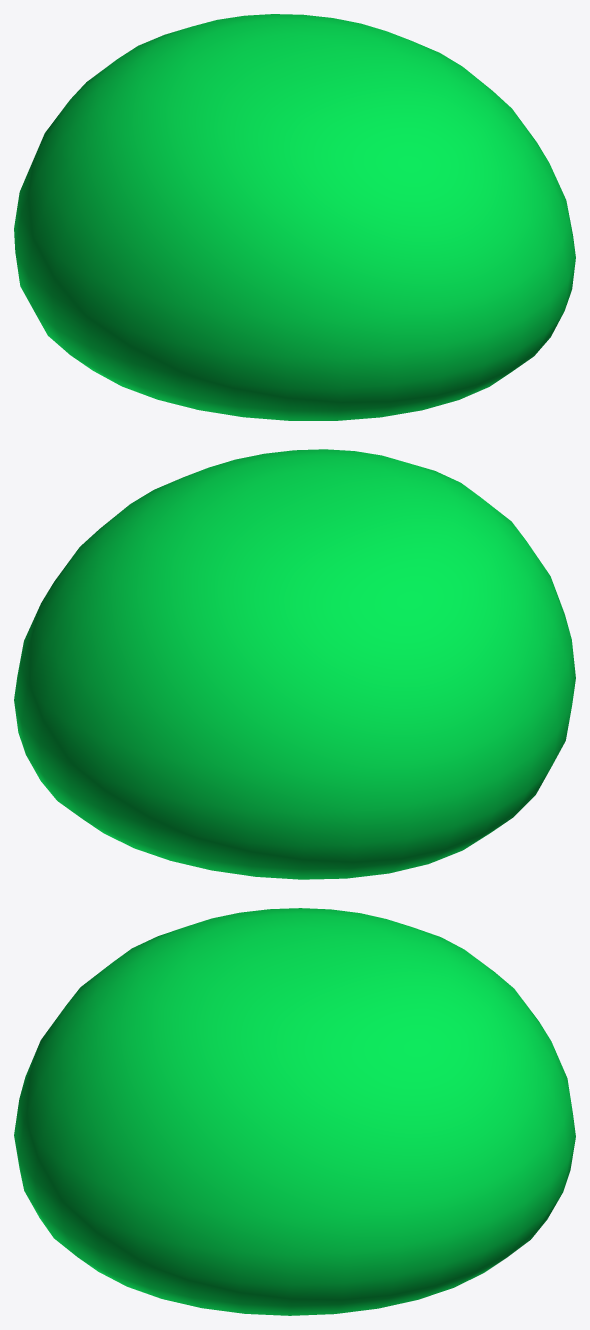
The model's file is SlimeVer2.fbx.
3 renders of one model, top to bottom at view 1: azimuth 30°, elevation 25°; view 2: azimuth 150°, elevation 25°; view 3: azimuth 270°, elevation 25°, orthographic. The views are drawn at different scales.
Visible parts, largest first — view 1: Slime; view 2: Slime; view 3: Slime.
Part boxes in pixels (x1,y1,x2,y2): Slime: (14,14,575,420); Slime: (14,449,575,879); Slime: (14,908,575,1315).
Bounding box in the file's own units: 241 × 142 × 253.
